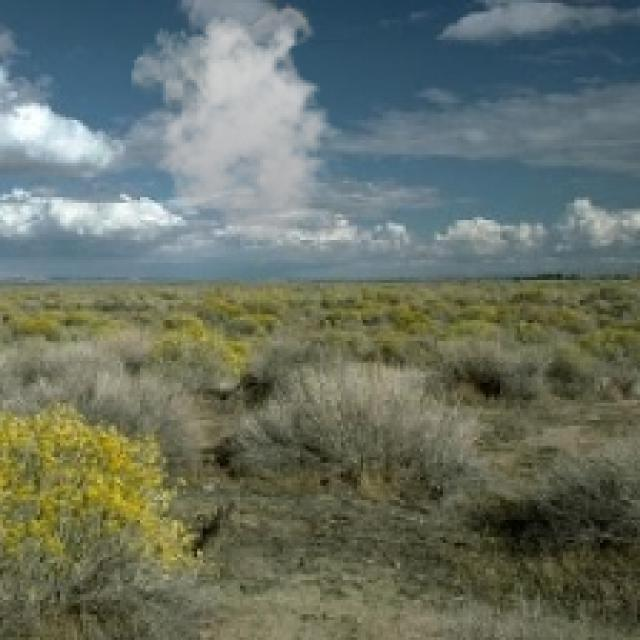smoke: (132, 0, 352, 243)
